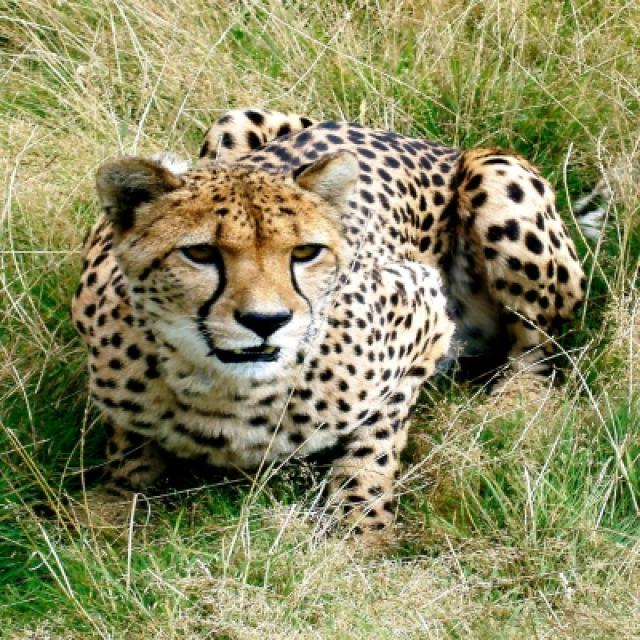Cheetah: (72, 109, 586, 530)
